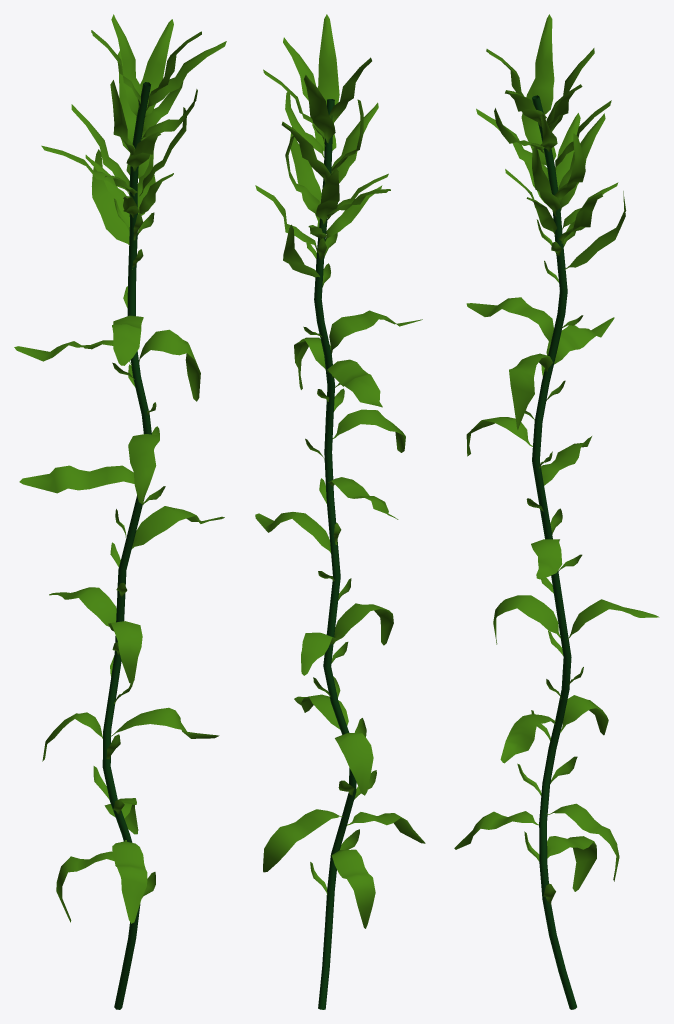
Rendered from SeaWeed_Large.FBX.
The picture shows the model from 3 angles, left to right: view 1: azimuth 30°, elevation 25°; view 2: azimuth 150°, elevation 25°; view 3: azimuth 270°, elevation 25°; orthographic projection. The views are drawn at different scales.
Parts seen in each view (by area): view 1: Reed; view 2: Reed; view 3: Reed.
Boxes of the visible parts, x1,y1,x2,y2 form: Reed: (14, 14, 226, 1009); Reed: (255, 14, 425, 1009); Reed: (454, 14, 659, 1009).
Size of the model in its own units: 139 by 749 by 142.
